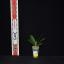leaf: (36, 33, 43, 44), (36, 38, 46, 45), (30, 35, 36, 43), (27, 39, 35, 44), (29, 41, 35, 45), (36, 43, 43, 46), (32, 44, 35, 46), (36, 39, 37, 45)
